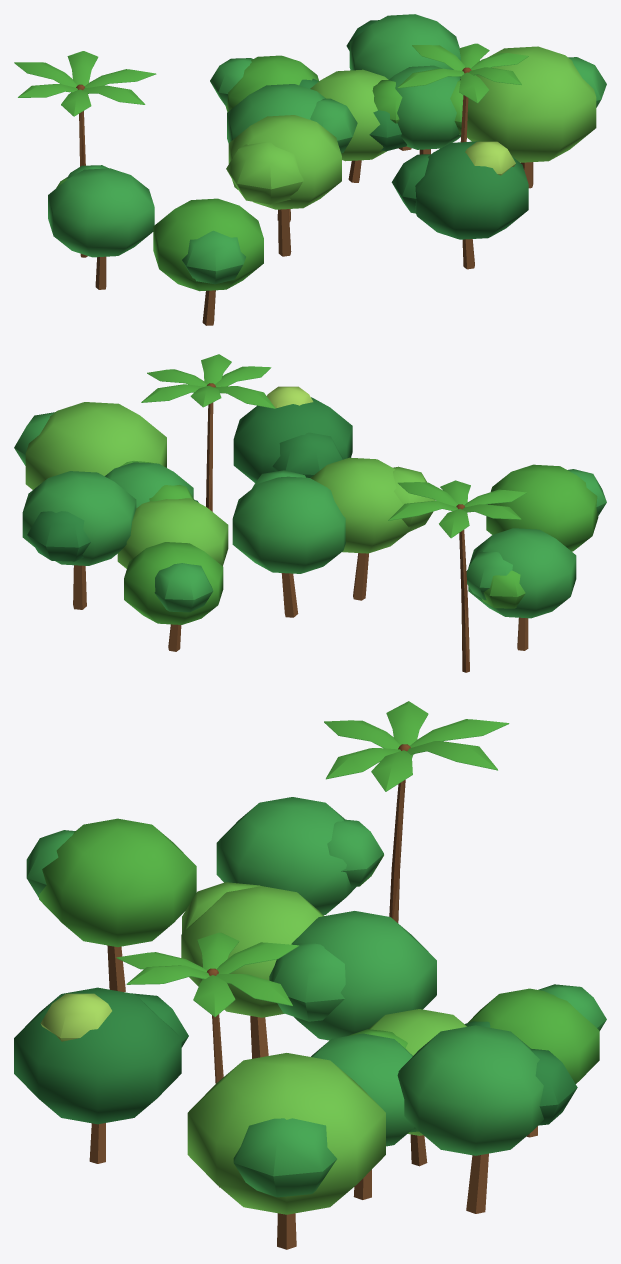
Rendered from SelvaJungla.fbx.
The picture shows the model from 3 angles, top to bottom: view 1: azimuth 30°, elevation 25°; view 2: azimuth 150°, elevation 25°; view 3: azimuth 270°, elevation 25°; orthographic projection. The views are drawn at different scales.
Visible parts, largest first — view 1: SelvaJungla; view 2: SelvaJungla; view 3: SelvaJungla.
Boxes of the visible parts, <box> form: SelvaJungla: <box>14,14,606,325</box>; SelvaJungla: <box>14,354,606,672</box>; SelvaJungla: <box>14,701,606,1249</box>.
Size of the model in its own units: 65.84 by 20.66 by 45.03.
Materials: 1 (1 with a texture image).
